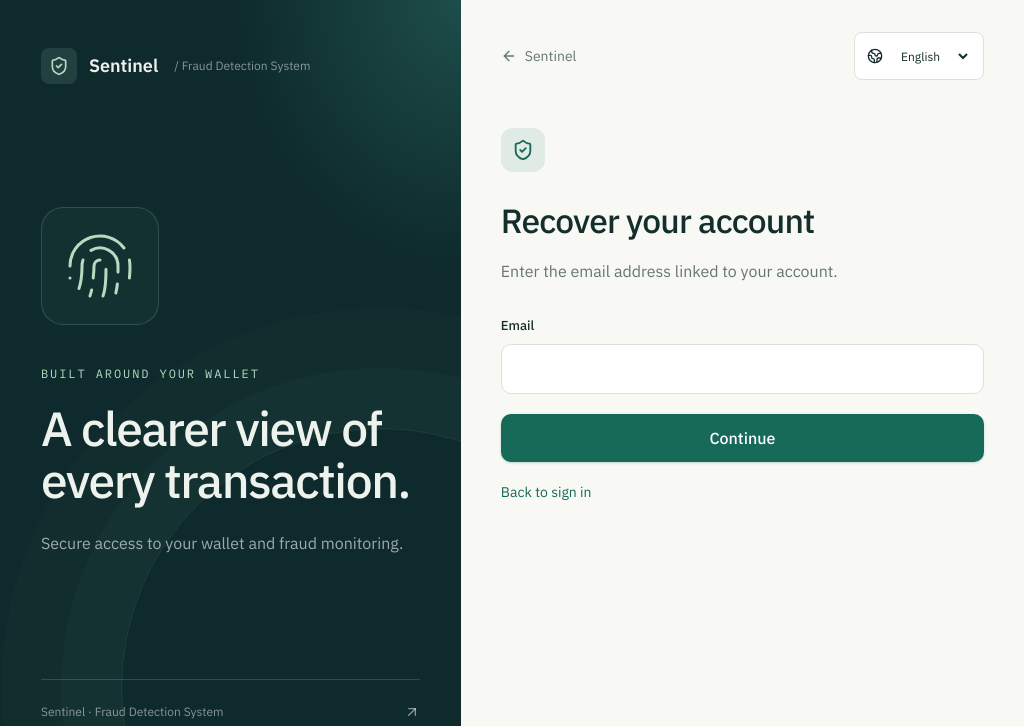
Test: Recovery › does not request a token with fewer than three answers
In the field labelled "Email": {"x": 742, "y": 369} [501,344,984,394], type "user@example.com"
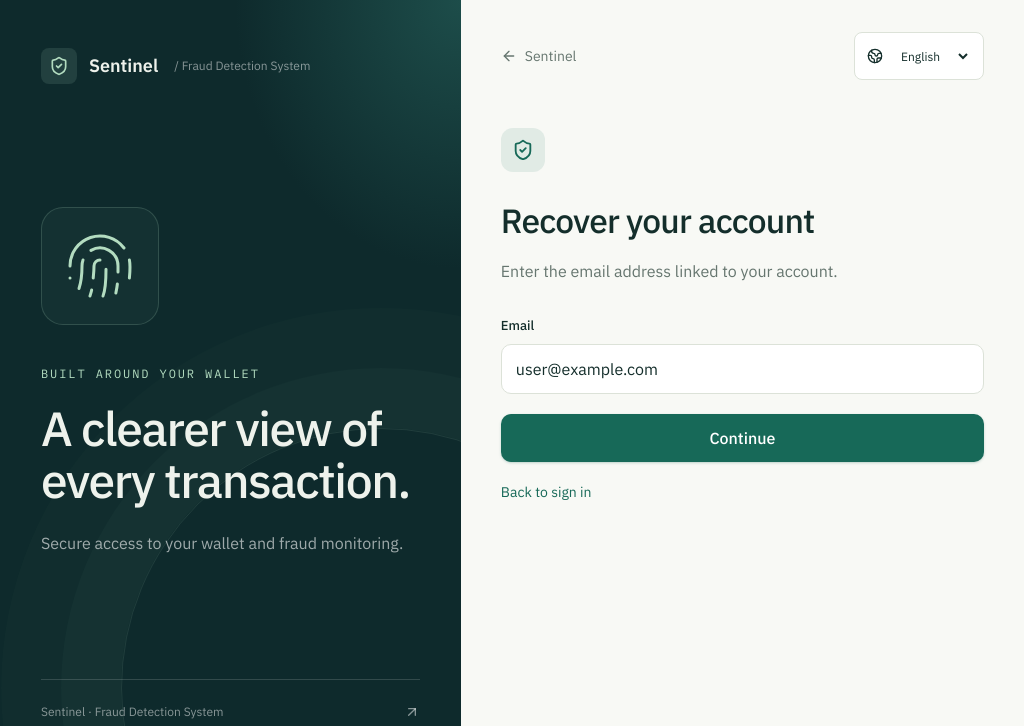
Click the button "Continue": {"x": 742, "y": 438} [501,414,984,462]
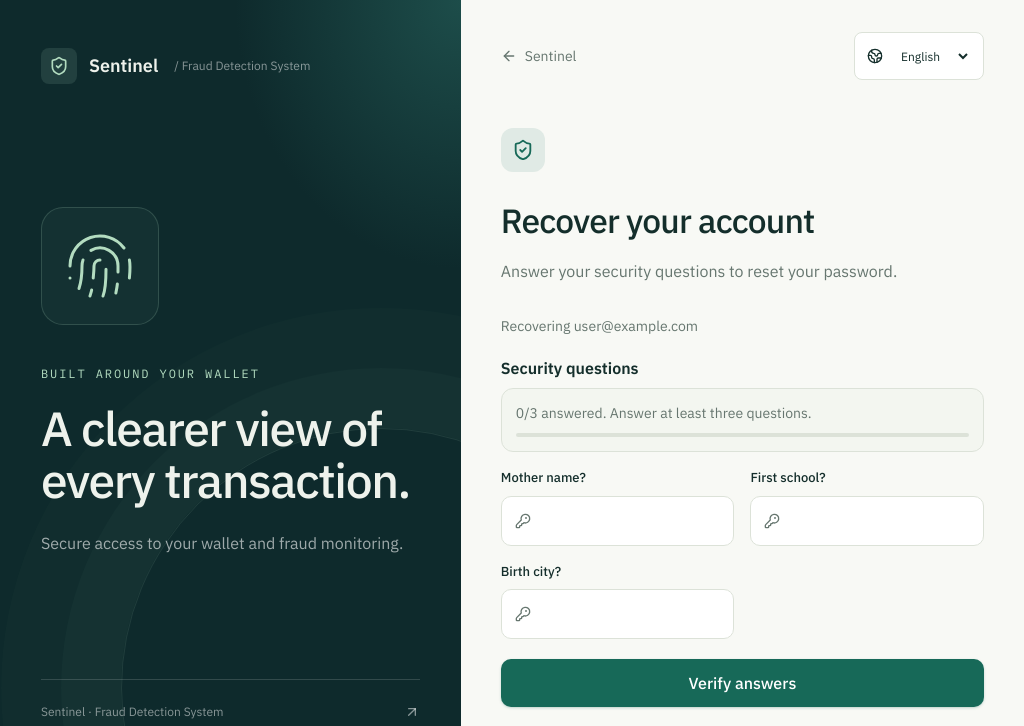
Result: the field labelled "Mother name?" is shown
In the field labelled "Mother name?": {"x": 618, "y": 521} [501,496,734,546], type "a"
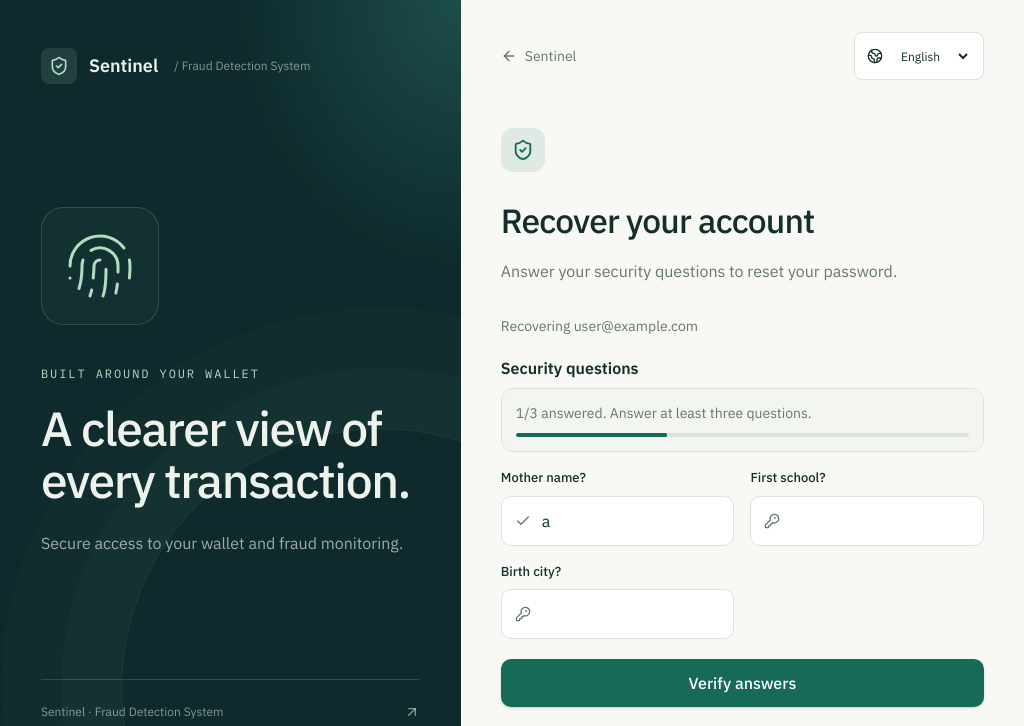
In the field labelled "First school?": {"x": 867, "y": 521} [750,496,984,546], type "b"
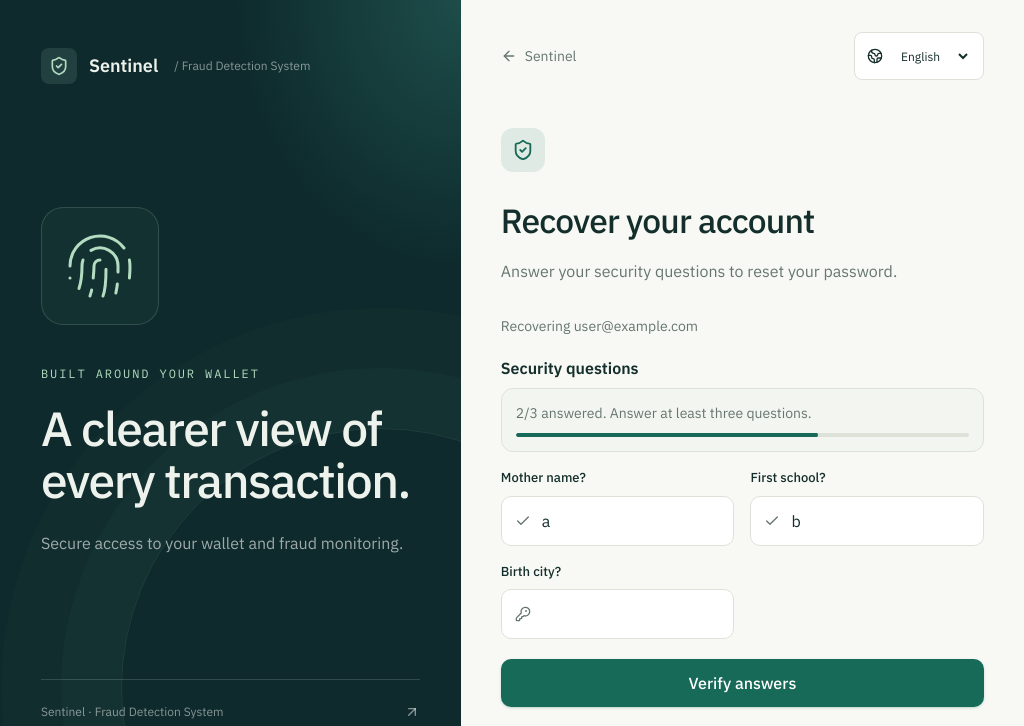
Click the button "Verify answers": {"x": 742, "y": 683} [501,659,984,707]
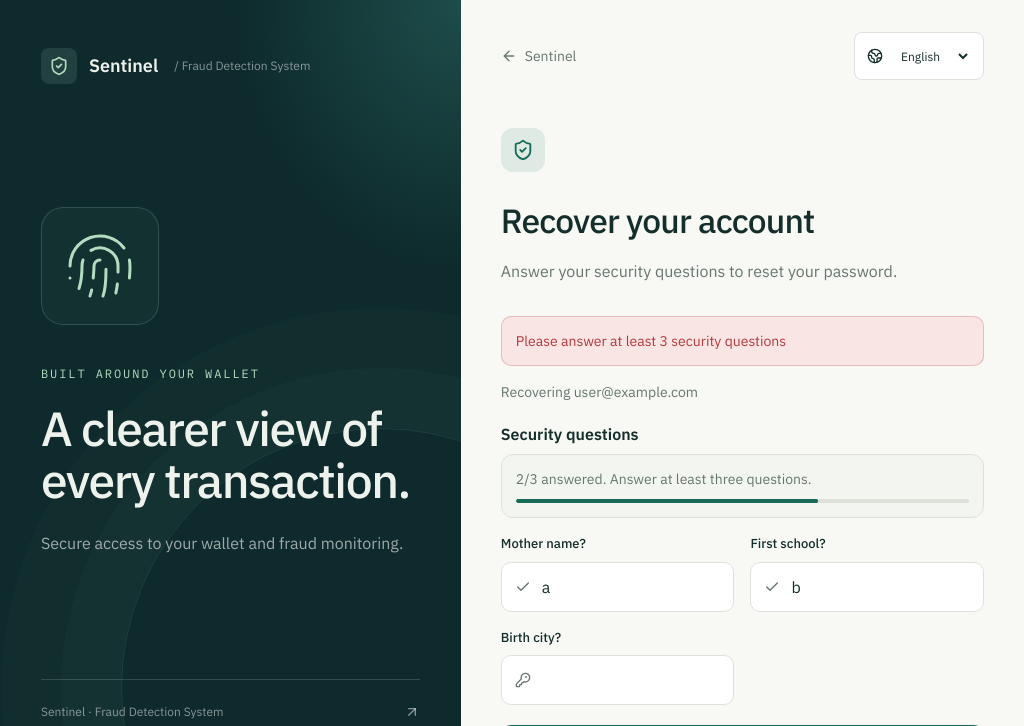
Result: the message shows "at least 3" at [516,332,786,350]
